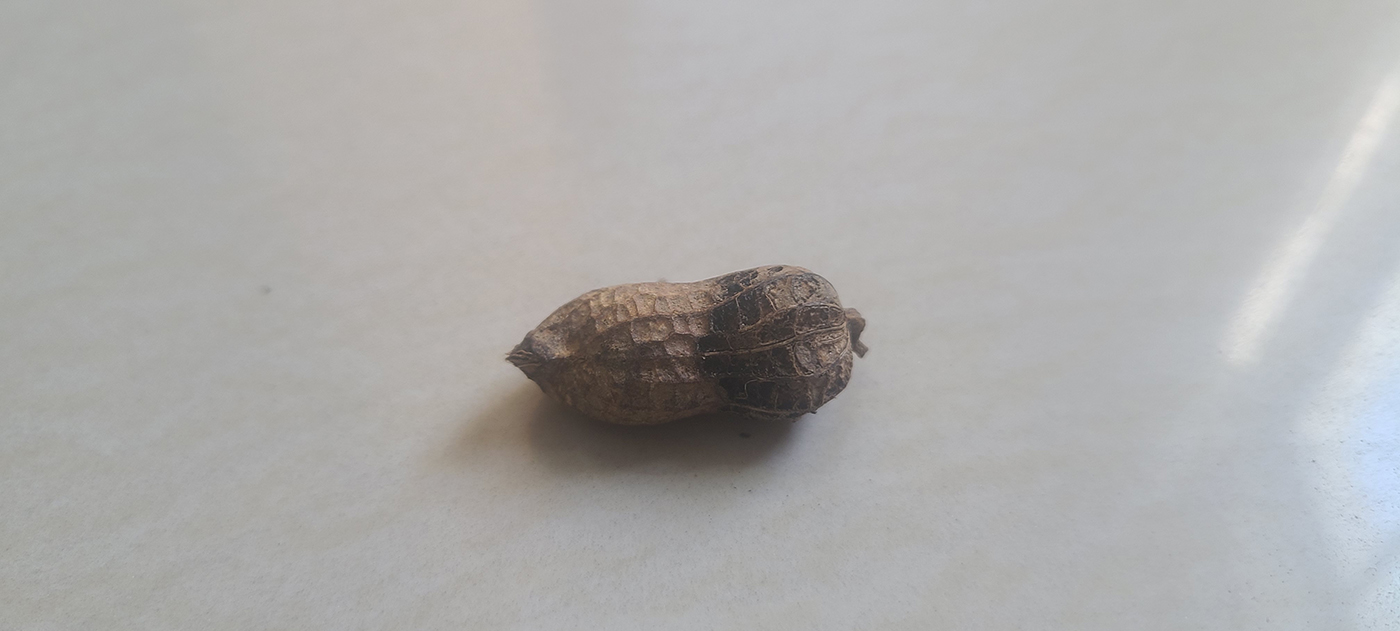l: (503, 263, 859, 431)
